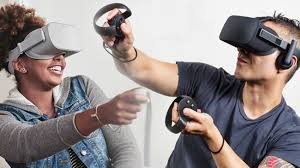oculus: (218, 12, 293, 57), (22, 22, 86, 63)
